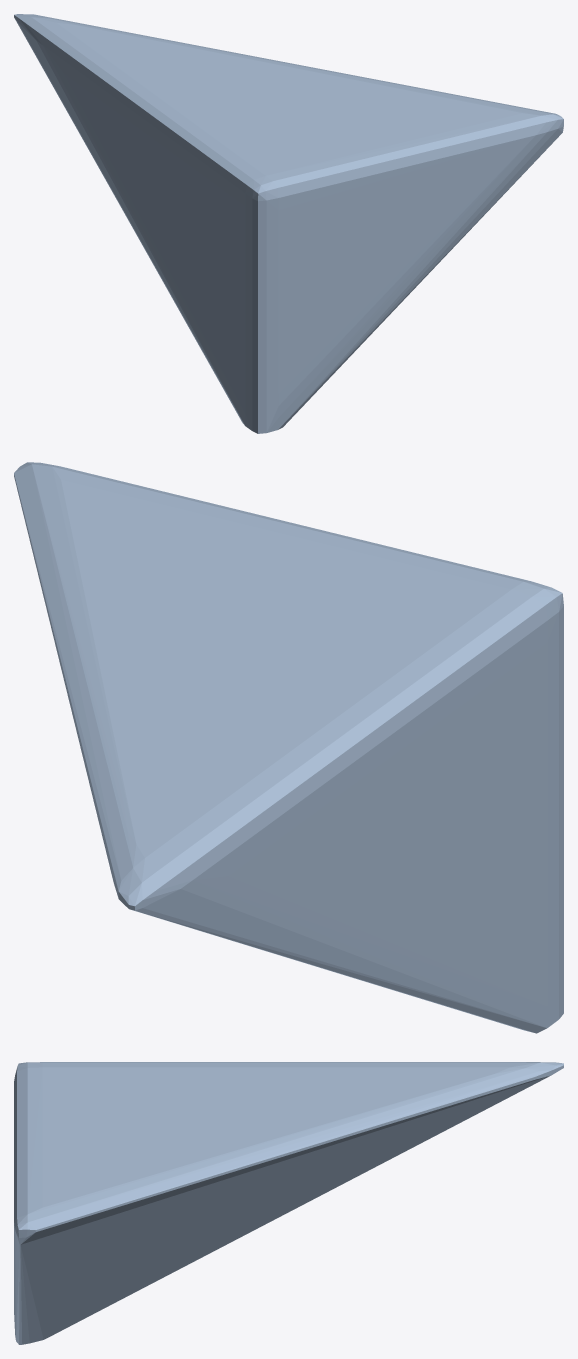
The model's file is right_lf_metacarpal_part_6.obj.
3 views of the same model, one above another, from view 1: azimuth 30°, elevation 25°; view 2: azimuth 150°, elevation 25°; view 3: azimuth 270°, elevation 25° (orthographic). The views are drawn at different scales.
Size of the model in its own units: 9.66 by 7.35 by 13.38.
